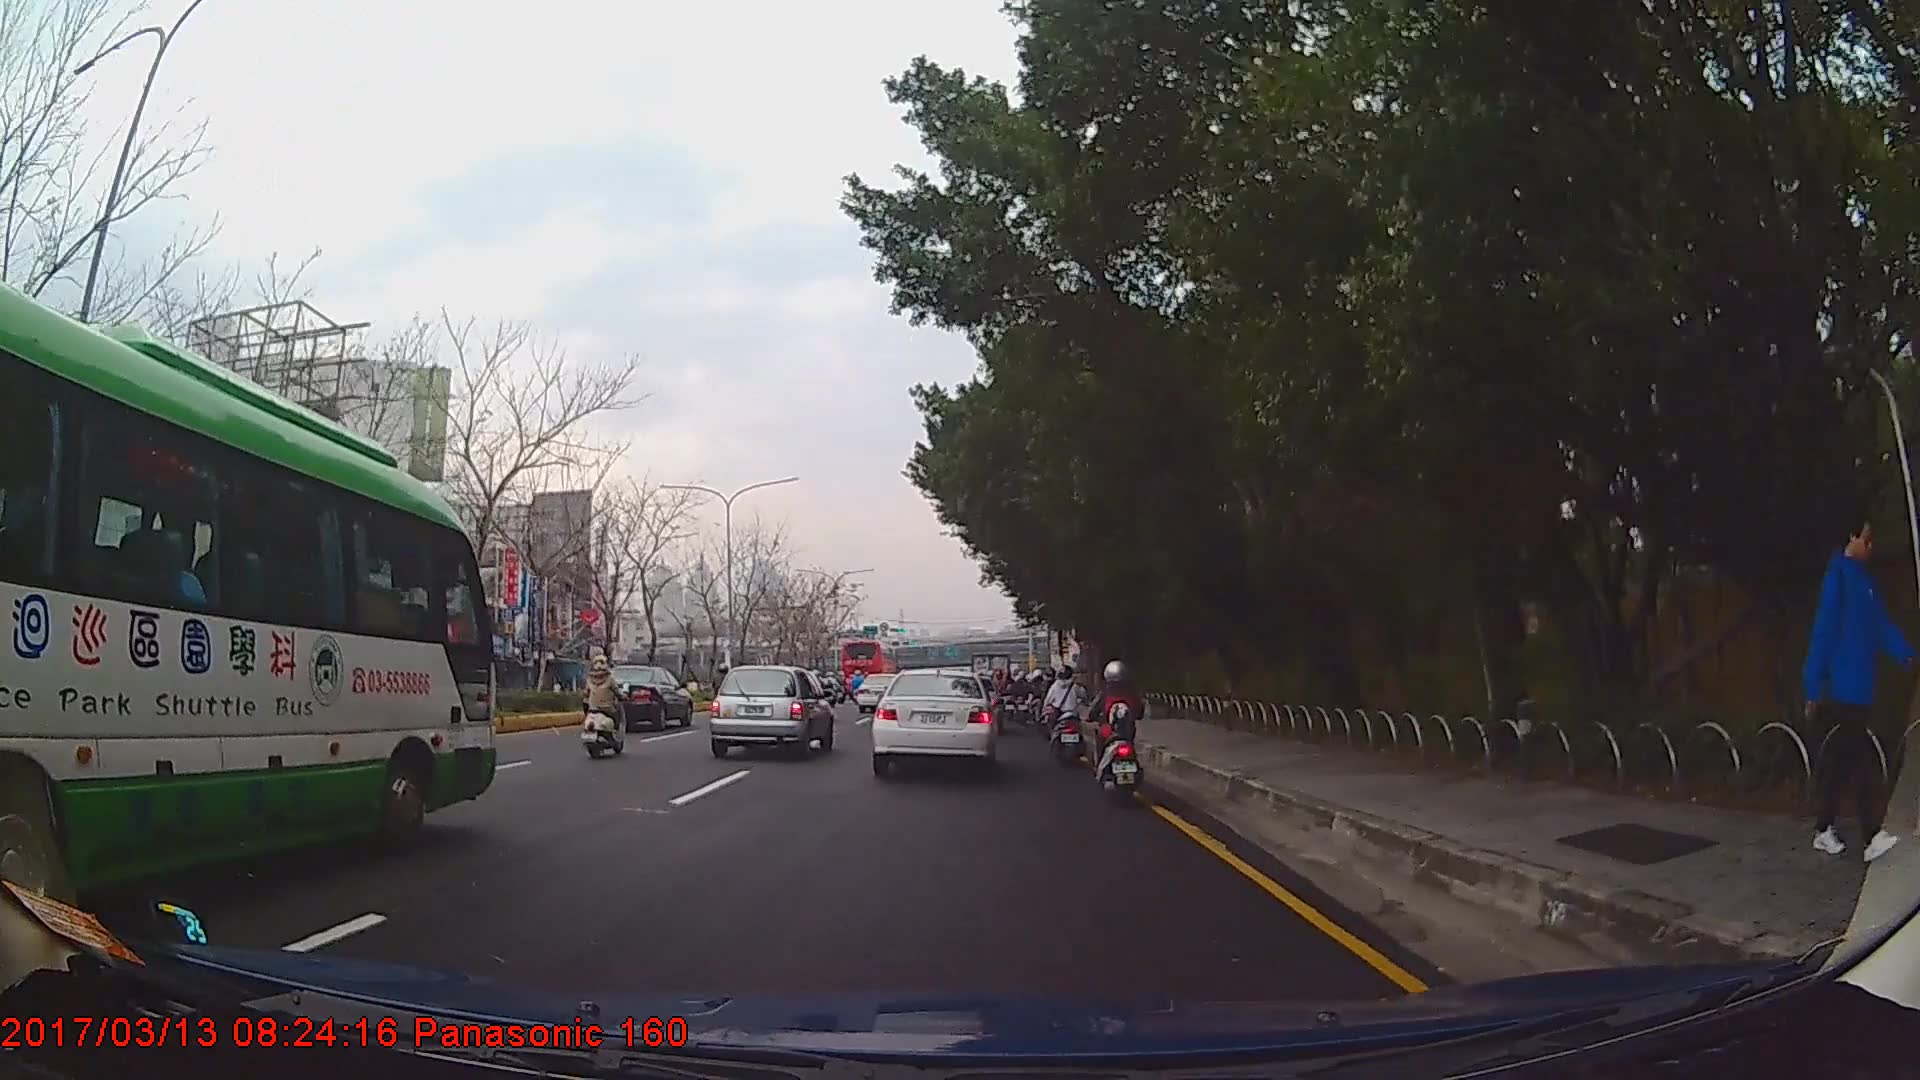pedestrian: (1804, 512, 1920, 864)
rider: (1091, 659, 1149, 800), (1044, 656, 1088, 763), (584, 659, 630, 758), (1039, 666, 1061, 747)
vehicle: (0, 275, 498, 931), (870, 667, 998, 774), (708, 662, 833, 756), (582, 664, 691, 732), (836, 637, 899, 695)
